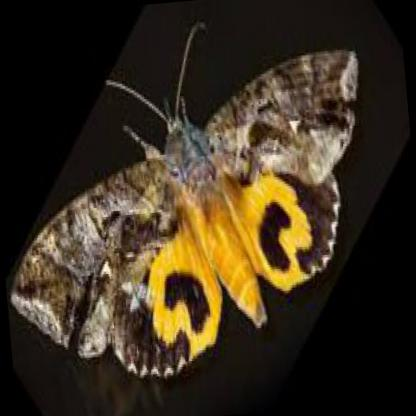fruit sucking moth: (13, 51, 361, 379)
